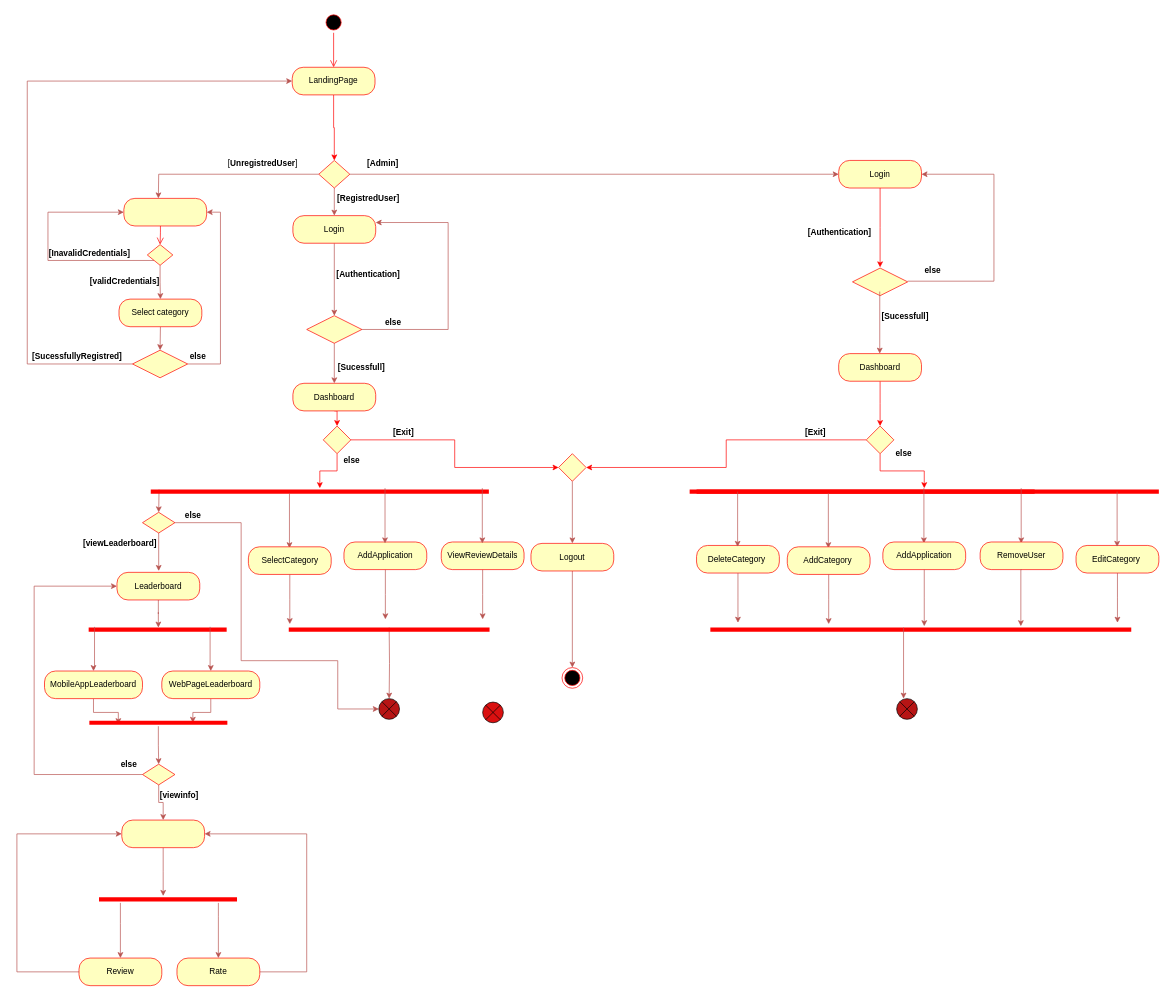
This 1173x998 diagram has some shape labels left out. The centre of each missing label's shape, as x and y in pixels:
Info: (163,833)
Register: (165,212)
